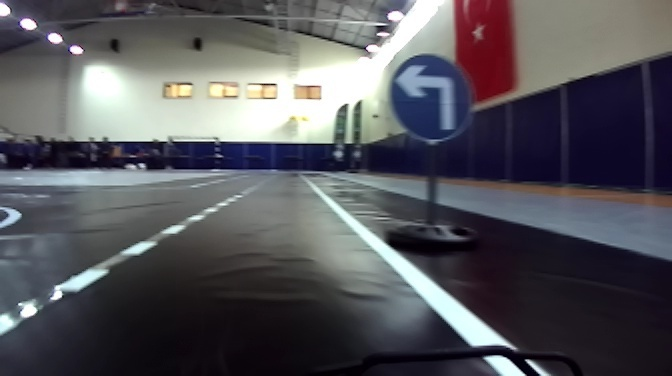sola_donus: (385, 49, 476, 142)
